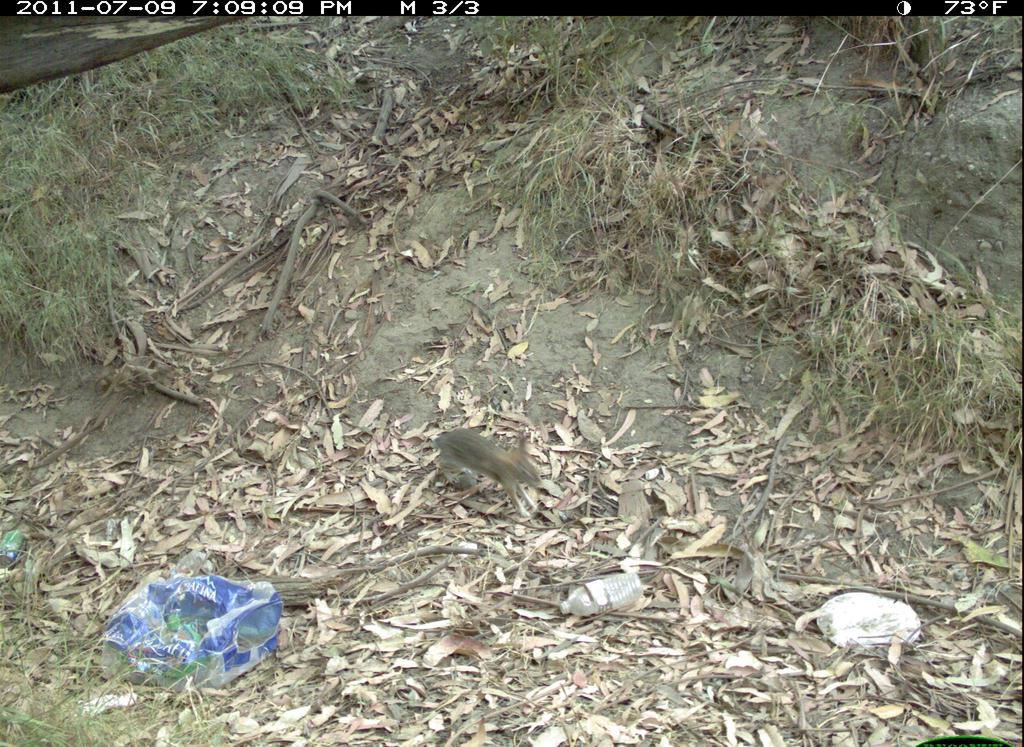rabbit: (429, 425, 548, 519)
